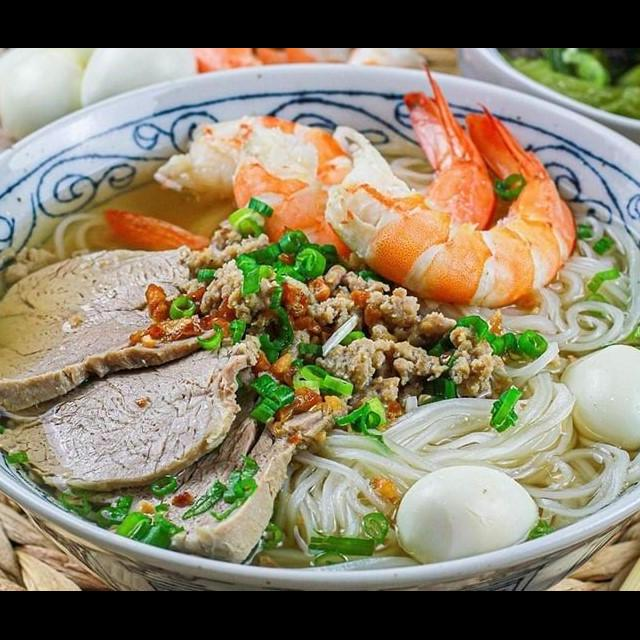hu tieu: (58, 372, 255, 592), (239, 423, 462, 581), (3, 270, 194, 408)
thit bam: (132, 201, 452, 474)
thit heo: (92, 50, 306, 276), (202, 49, 430, 242), (11, 126, 213, 308)
tom: (371, 242, 640, 459), (328, 316, 600, 526), (375, 142, 586, 354)
trung: (0, 373, 140, 497), (148, 504, 294, 592)
